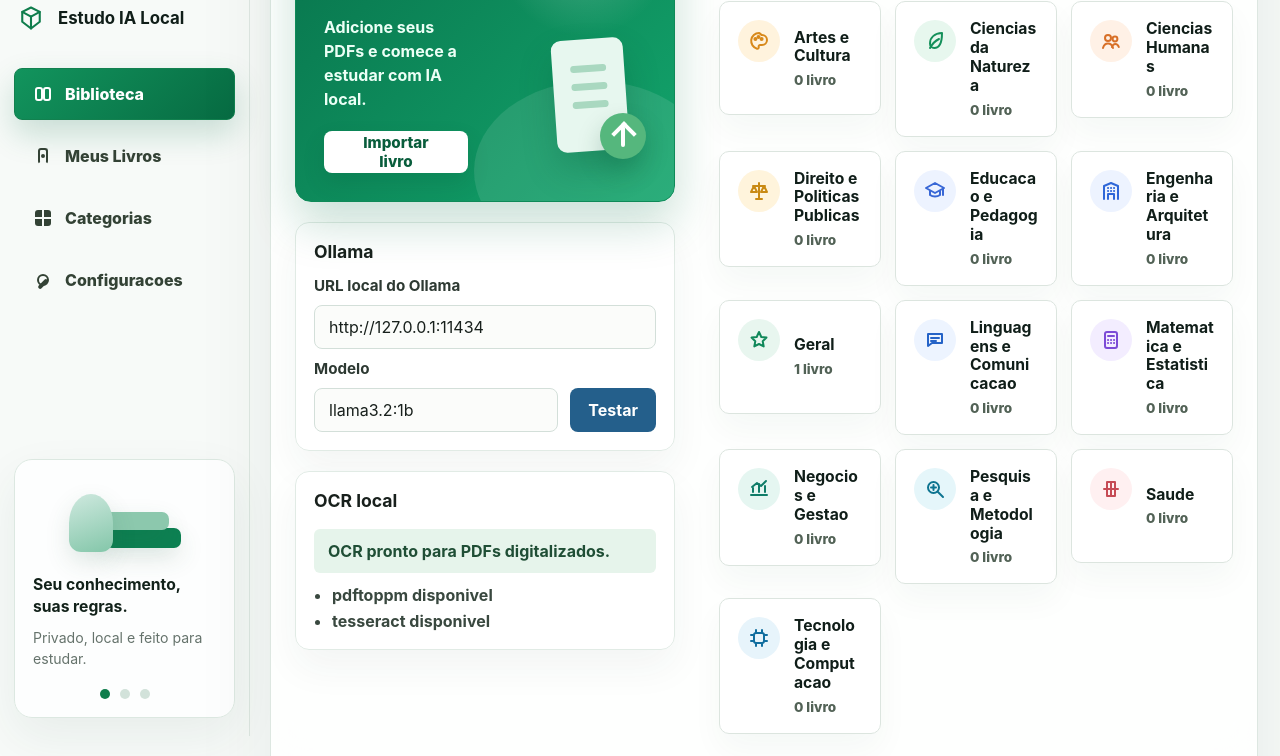
Scenario: App › archives a saved document from the active library
(page scrolled)
Click the button "Geral 1 livro" at (800, 357), box [719,300,881,414]
(page scrolled)
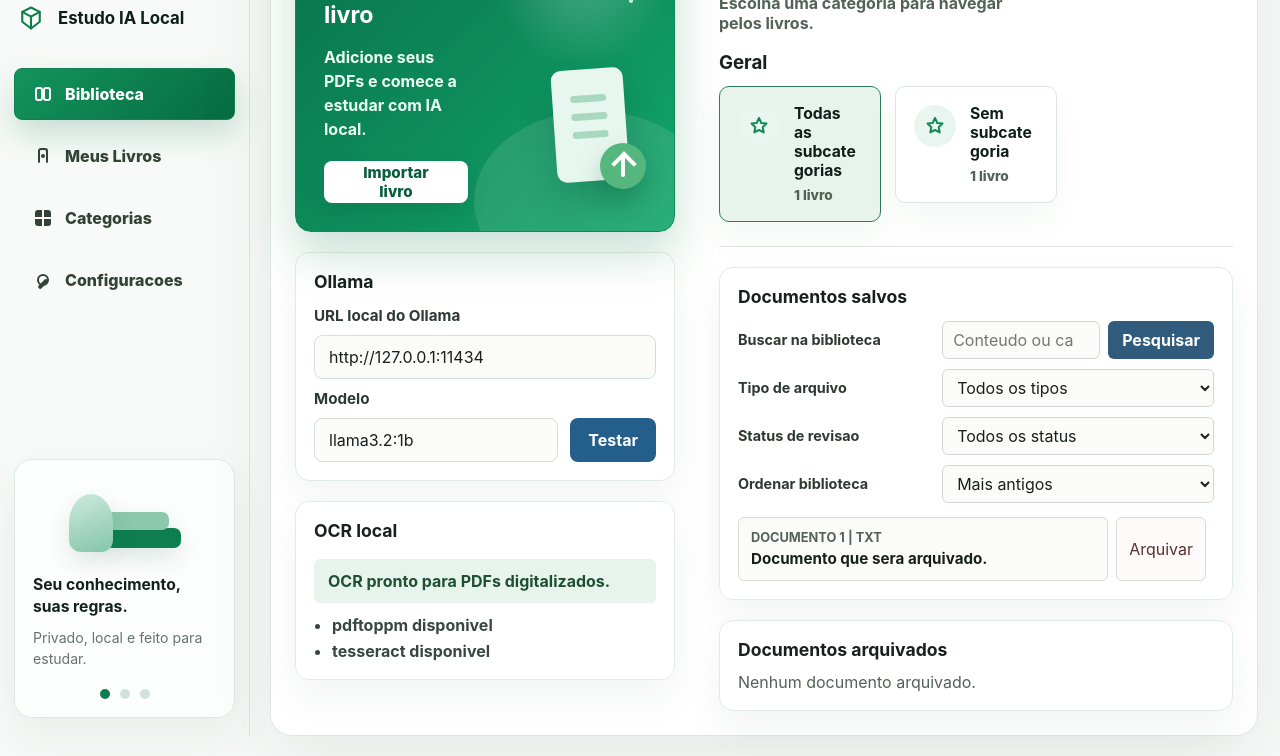
expect the text "Documento que sera arquivado." is shown: met, box [751,549,987,568]
Click the button "Arquivar" at (1161, 549), box [1116,517,1206,581]
(page scrolled)
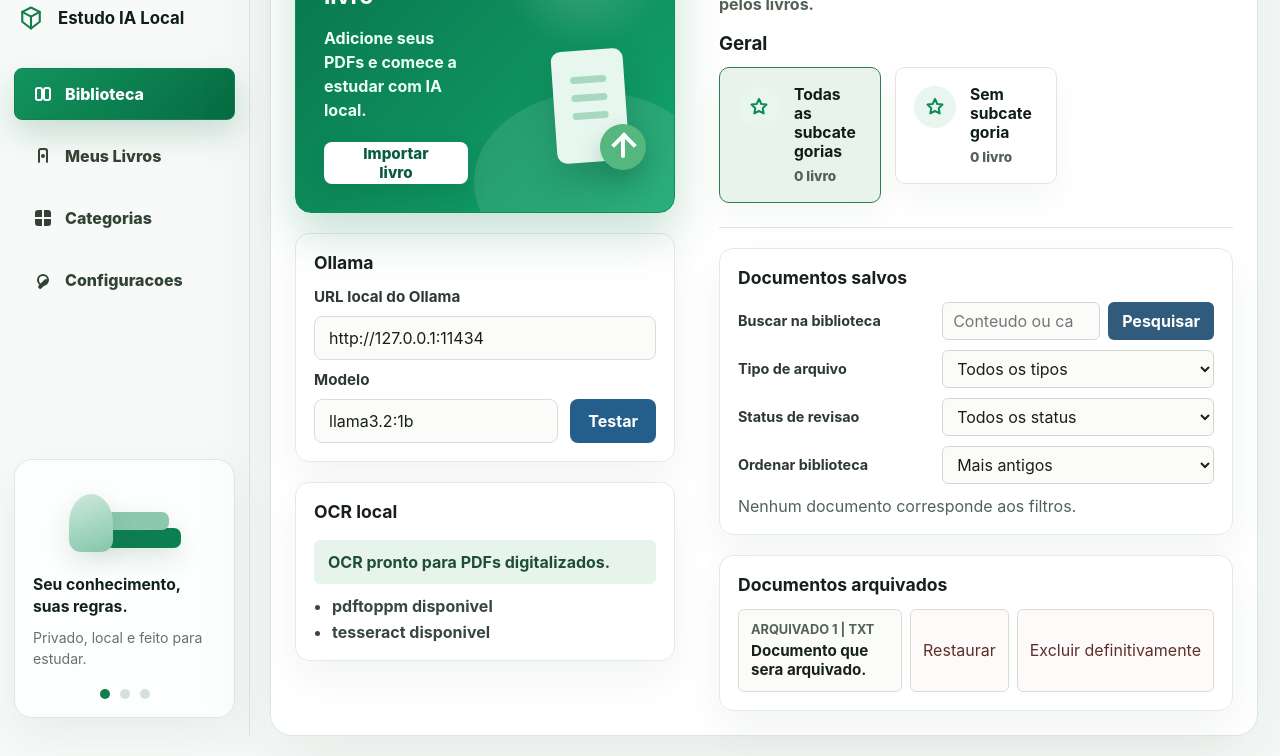
expect the text "Documento que sera arquivado." is shown: met, box [751,641,889,679]
expect the text "Nenhum documento corresponde aos filtros." is shown: met, box [738,496,1076,516]
